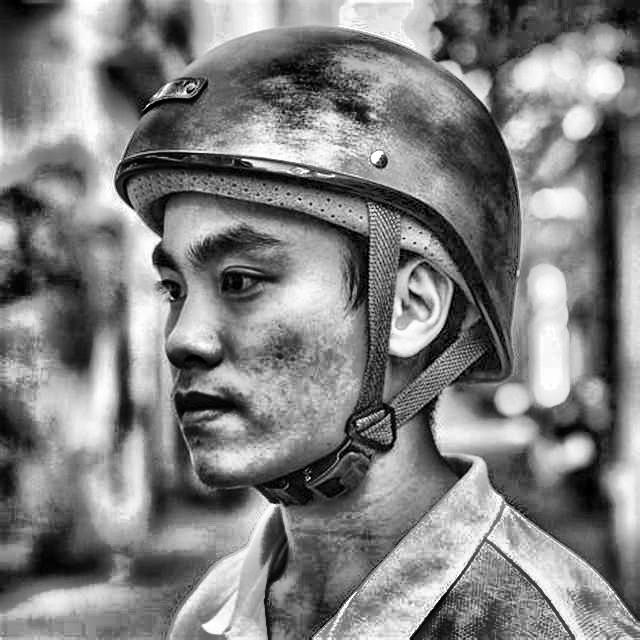Helmet: (104, 14, 532, 516)
